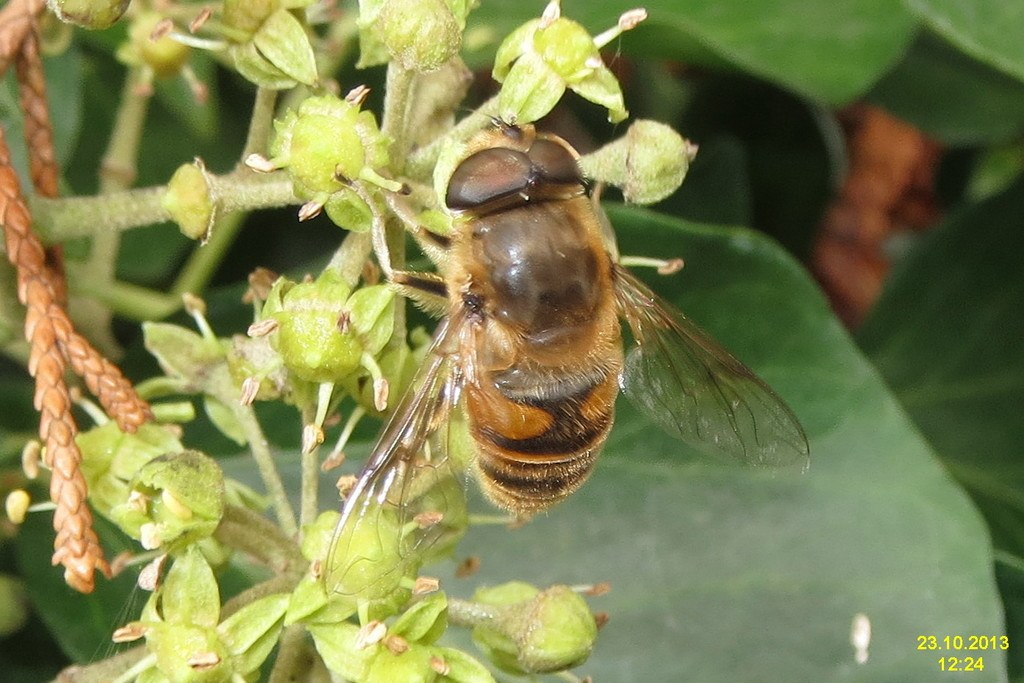bee: (311, 120, 802, 577)
insect: (15, 0, 700, 682), (488, 2, 646, 125)
